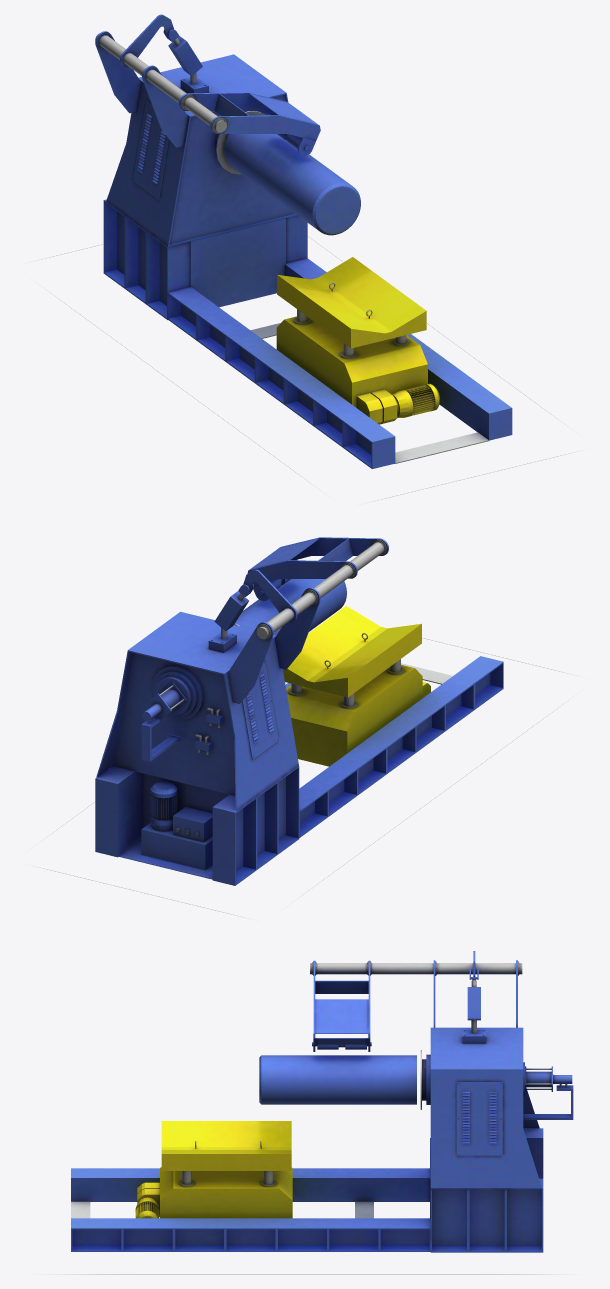
The model's file is kaijuanji.obj.
The picture shows the model from 3 angles, top to bottom: view 1: azimuth 30°, elevation 25°; view 2: azimuth 150°, elevation 25°; view 3: azimuth 270°, elevation 25°; orthographic projection. The views are drawn at different scales.
Visible parts, largest first — view 1: kaijuanji; view 2: kaijuanji; view 3: kaijuanji.
Part boxes in pixels (x1=…): kaijuanji: x1=53, y1=14, x2=557, y2=497; kaijuanji: x1=58, y1=537, x2=551, y2=913; kaijuanji: x1=71, y1=951, x2=573, y2=1274.
Bounding box in the file's own units: 205 × 221 × 468.
